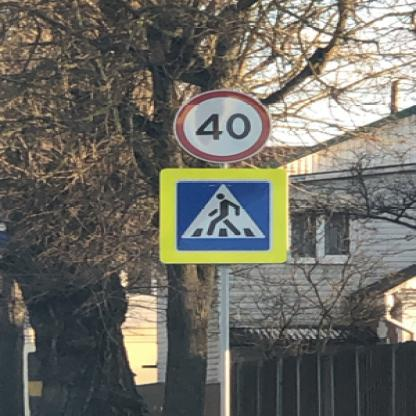crosswalk: (174, 178, 272, 250)
speedlimit: (172, 88, 269, 160)
